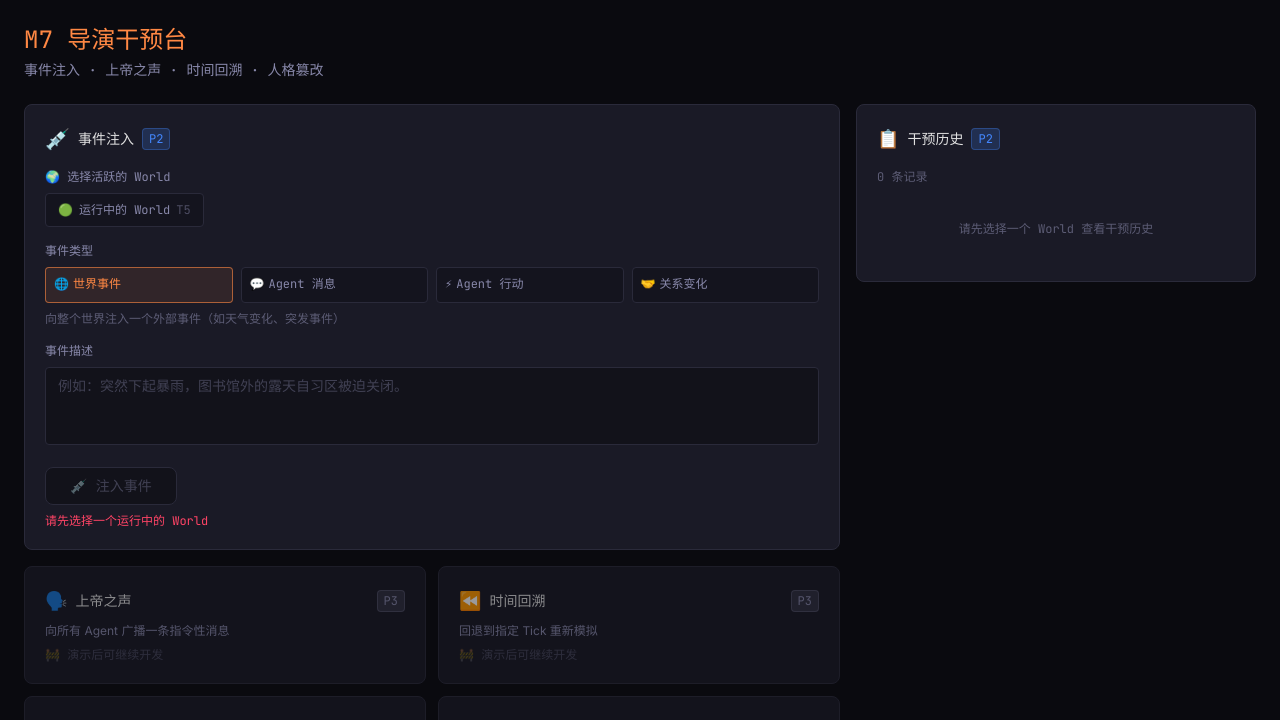
Test: Step 24 DirectorIntervention — 渲染与基础交互 › shows target agent selector for agent_action
Click the button "🟢 运行中的 World T5" at (124, 210), box [45,193,204,227]
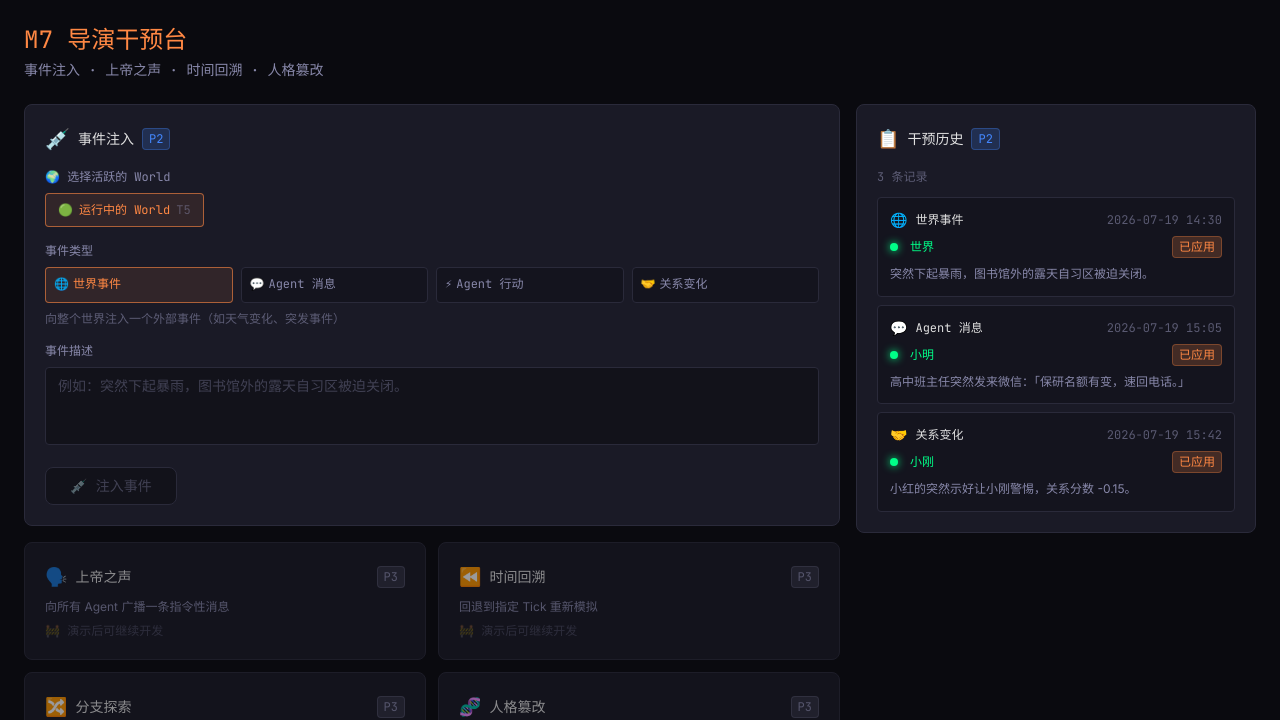
Click the button "⚡ Agent 行动" at (530, 285), box [436,267,624,303]
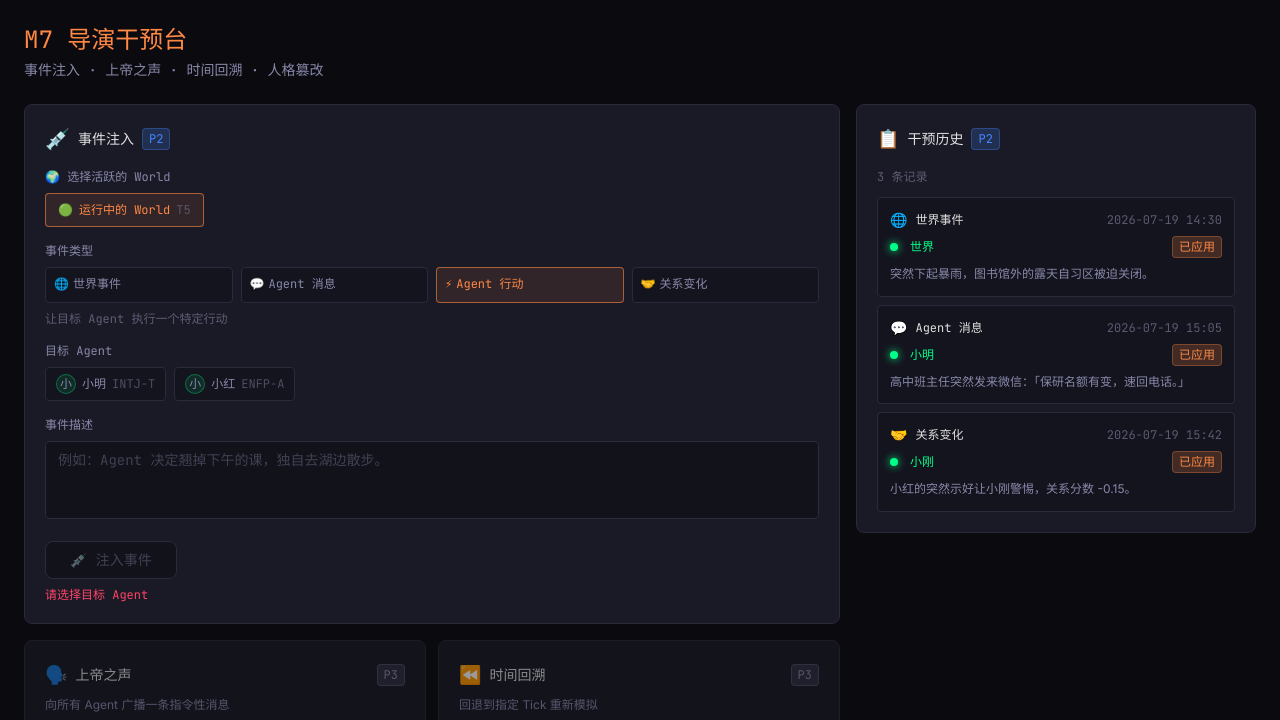
Now the text "目标 Agent" is shown, box [45,343,112,359]
